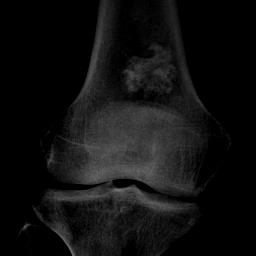cancer: (118, 41, 180, 100)
